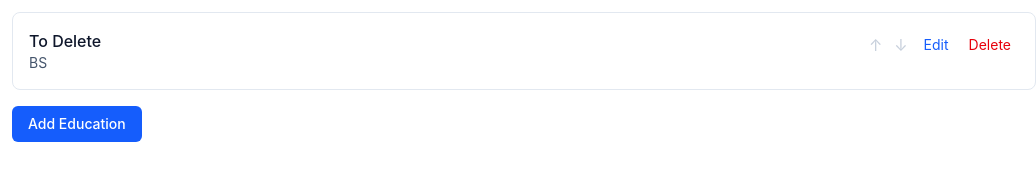
EducationSection › deletes an education entry
expect the heading "To Delete" is shown: met, box top-left (29, 31), bottom-right (101, 51)
What coordinates should you click on to do the following:
click the button "Delete"
I would click on:
 (990, 45)
Its box is top-left (961, 31), bottom-right (1019, 59).
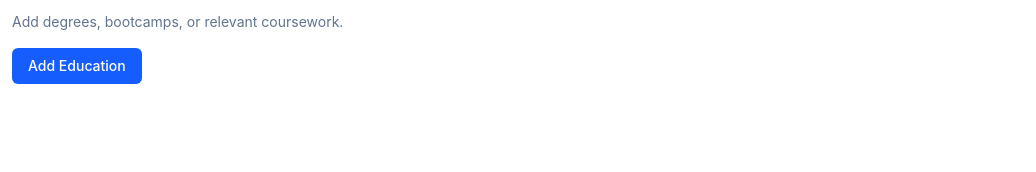
expect the heading "To Delete" is gone: met
expect the text "Add degrees, bootcamps, or relevant coursework." is shown: met, box top-left (12, 13), bottom-right (343, 30)
